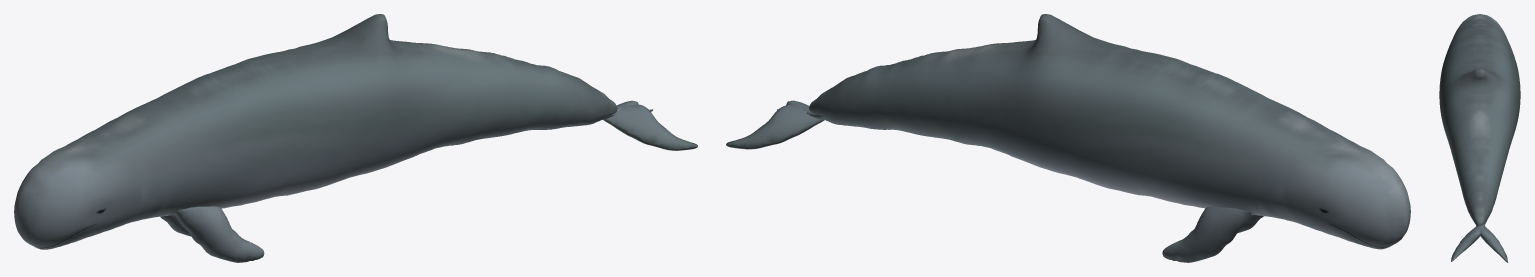
File: irrawaddy-dolphin.glb
3 views of the same model, side by side, from view 1: azimuth 30°, elevation 25°; view 2: azimuth 150°, elevation 25°; view 3: azimuth 270°, elevation 25° (orthographic). The views are drawn at different scales.
Parts seen in each view (by area): view 1: mm_frame (28); view 2: mm_frame (28); view 3: mm_frame (28).
Part boxes in pixels (x1,y1,x2,y2): mm_frame (28): (14, 14, 697, 262); mm_frame (28): (726, 14, 1410, 262); mm_frame (28): (1439, 14, 1520, 262).
Bounding box in the file's own units: 9.97 × 2.88 × 1.82.
Materials: 1 (1 with a texture image).
